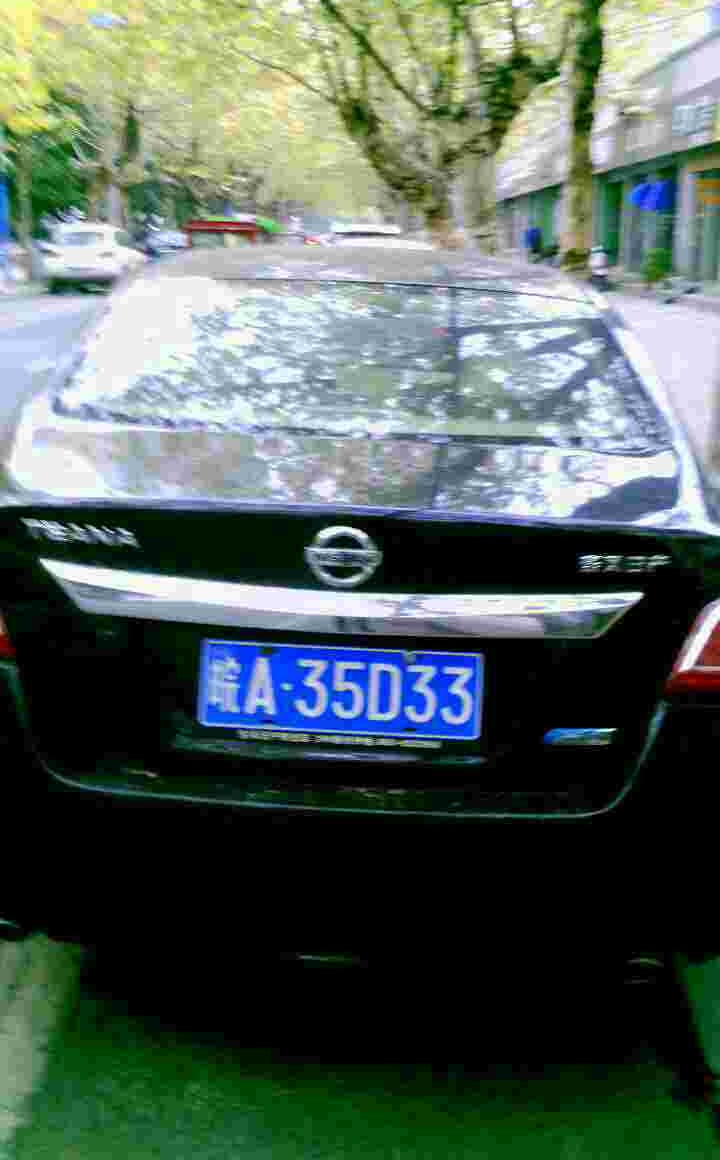license_plate: (192, 642, 483, 749)
